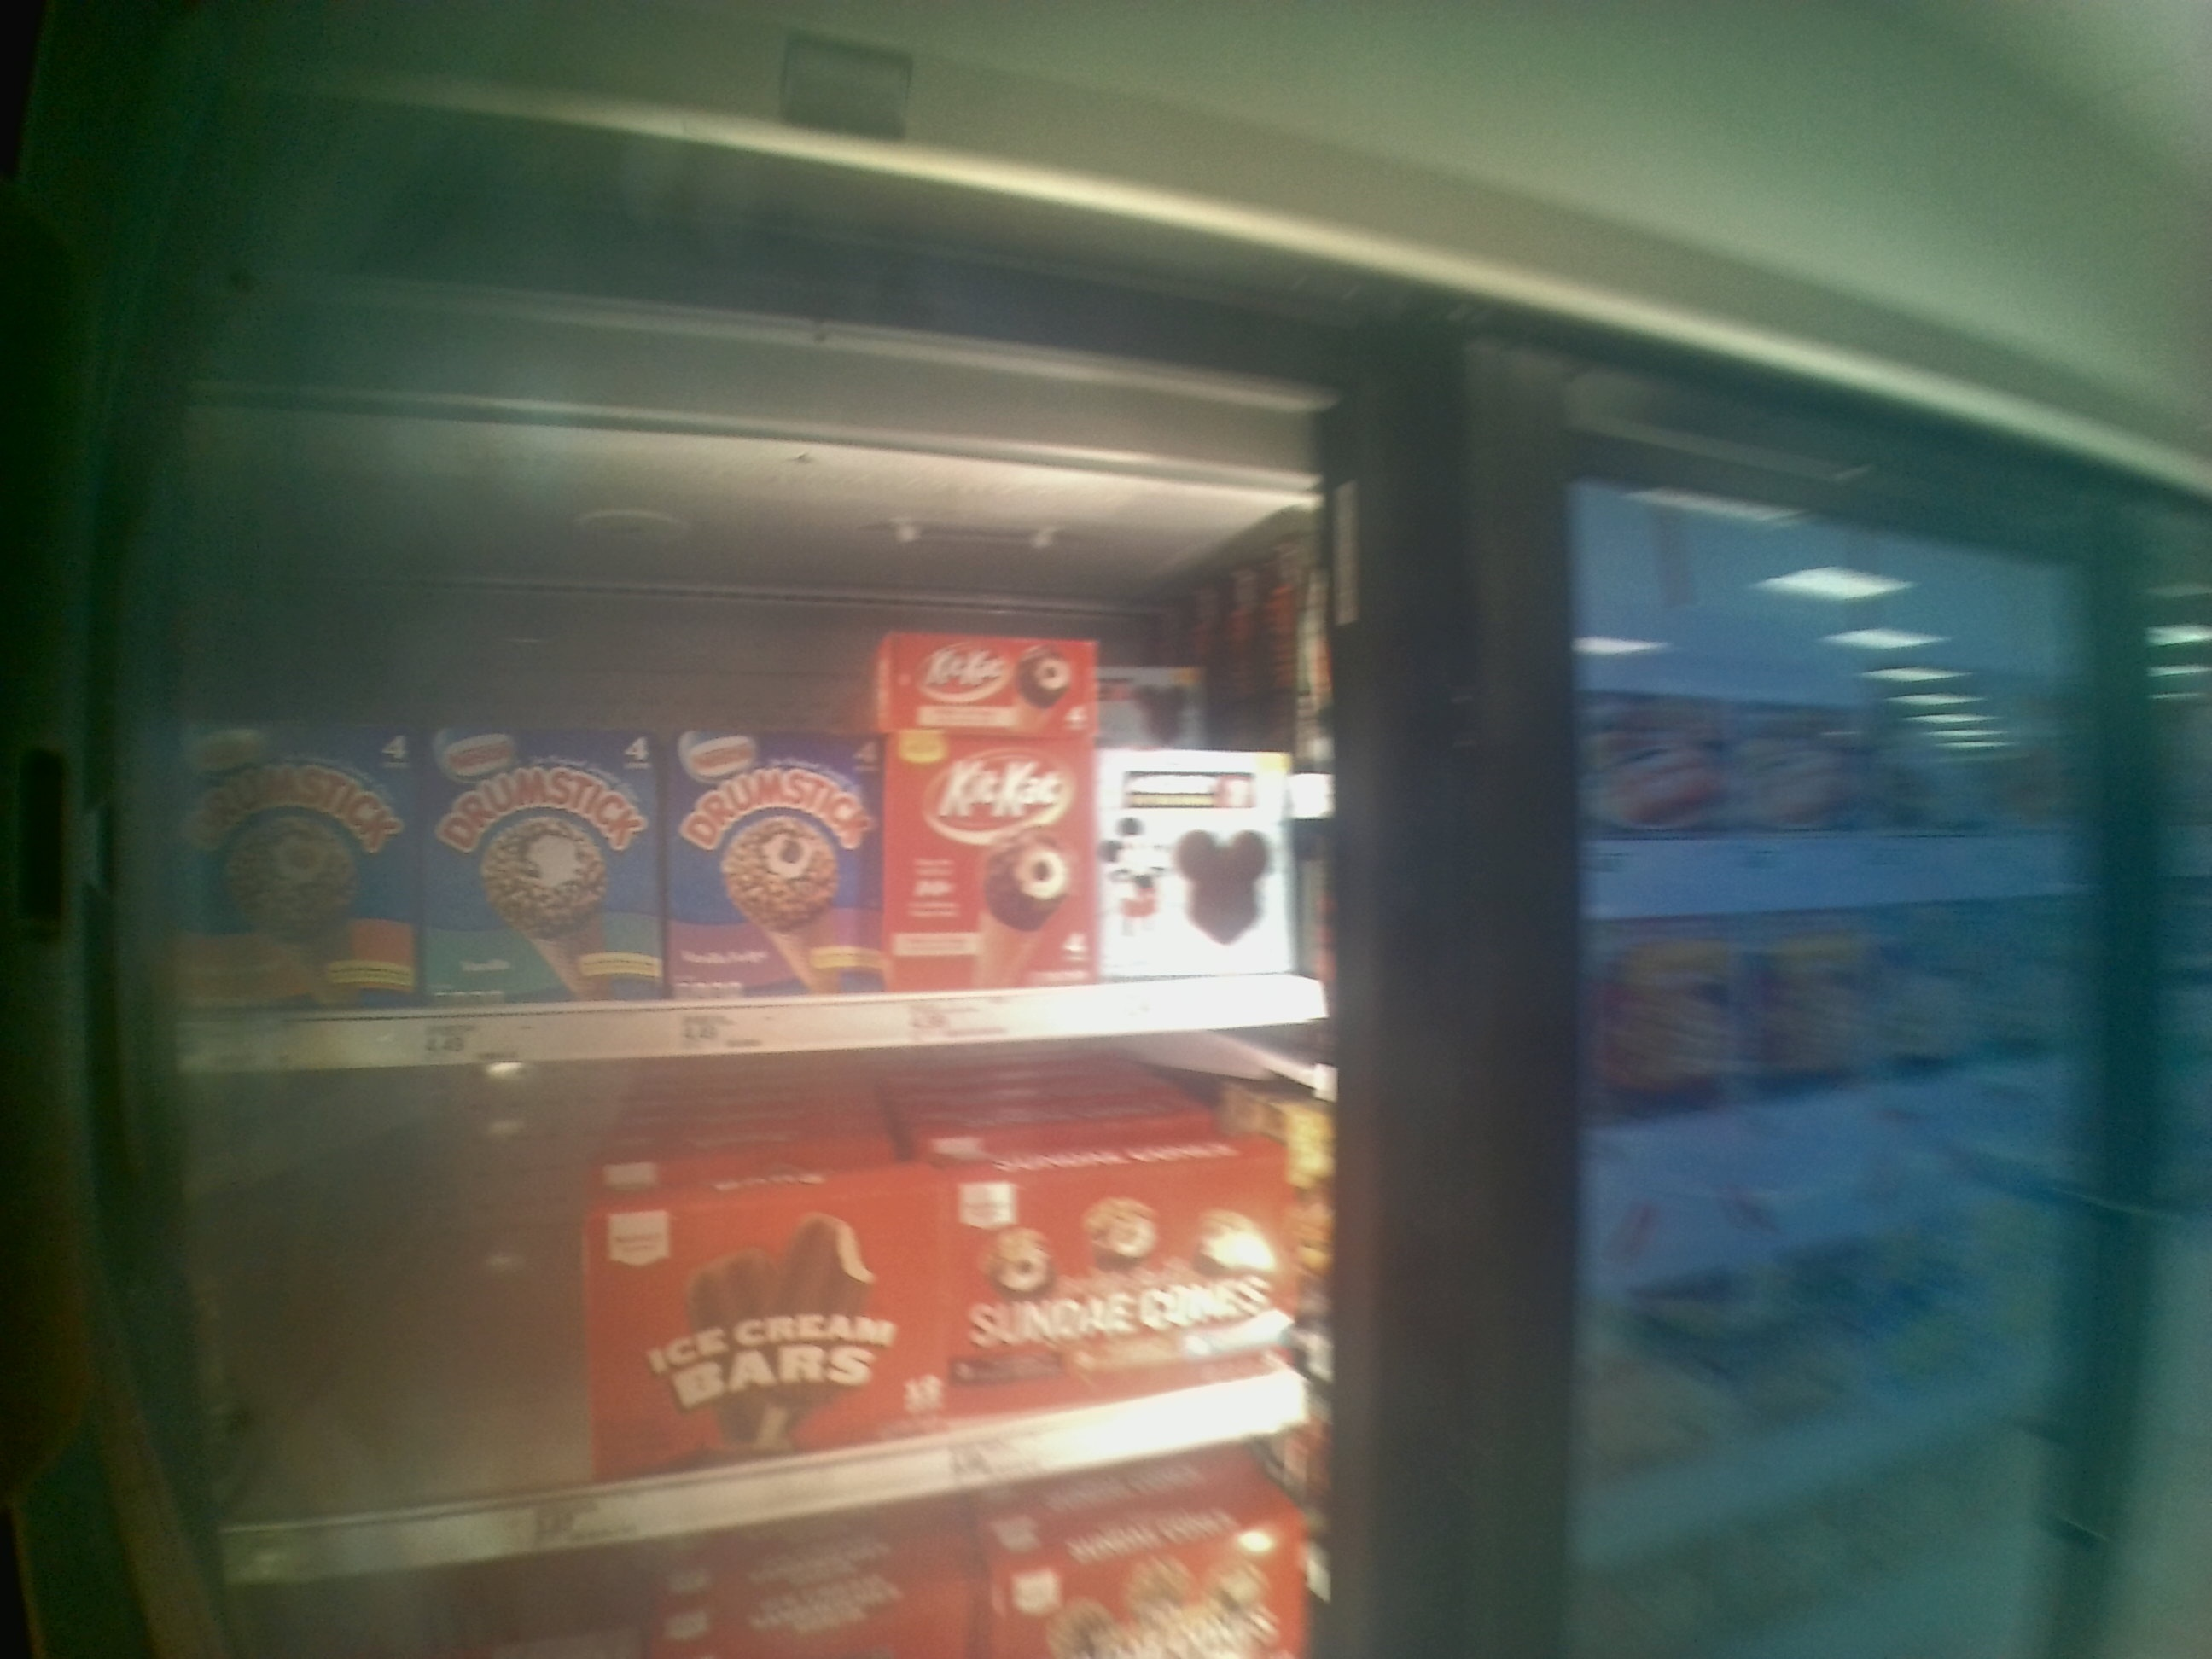shelf: (158, 545, 1324, 1060), (167, 1087, 1332, 1560)
